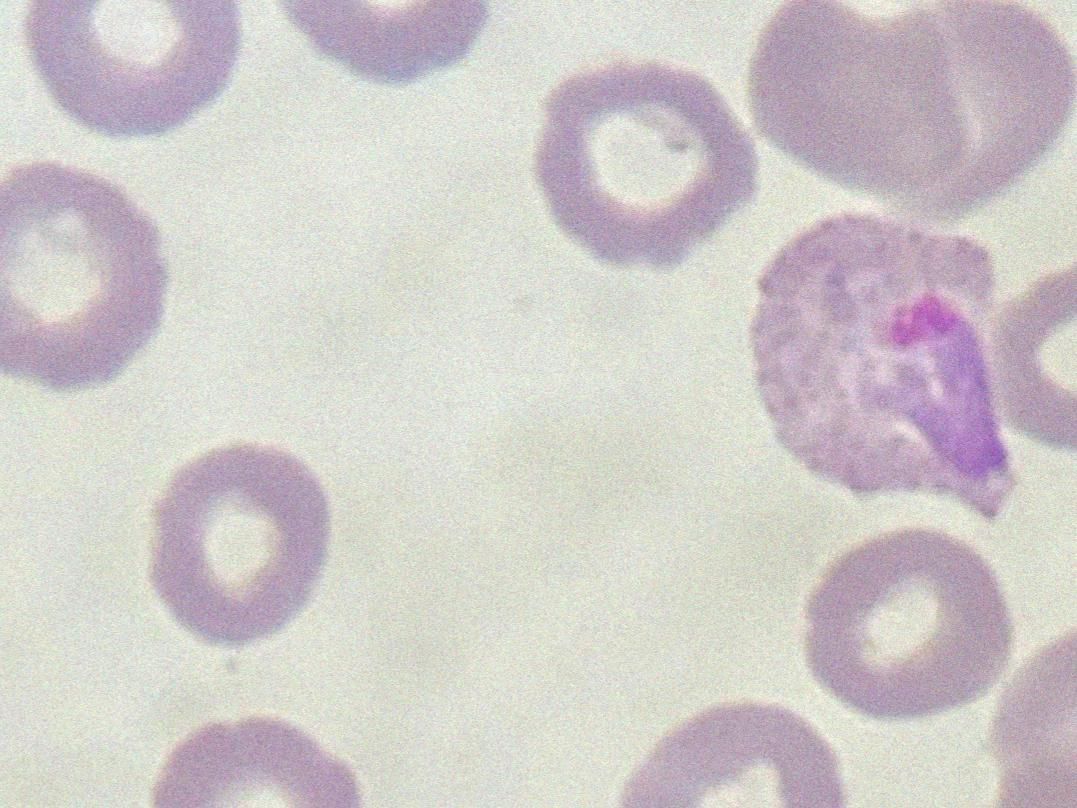Infected: (748, 214, 1021, 513)
Uninfected: (538, 59, 757, 267), (883, 0, 1077, 227), (748, 0, 964, 197), (805, 532, 1016, 723), (0, 161, 173, 390), (157, 441, 333, 647), (25, 0, 244, 139)
